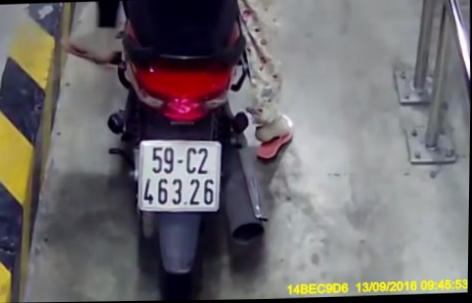LP: (135, 136, 223, 216)
